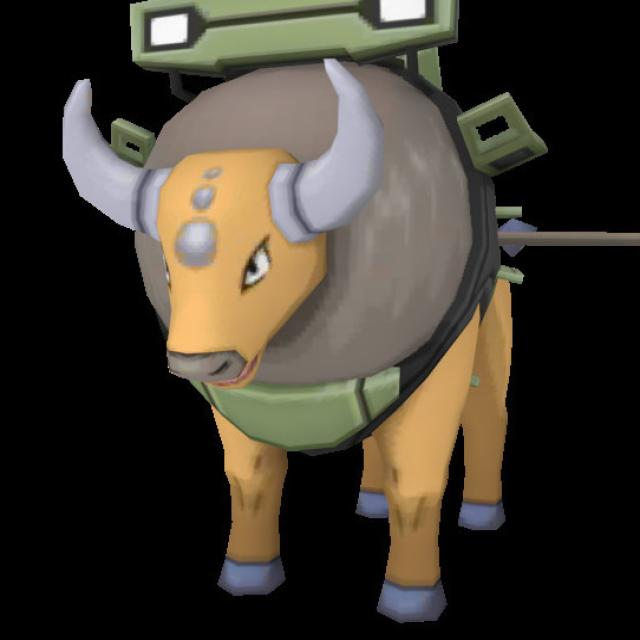Tauros: (81, 57, 521, 611)
